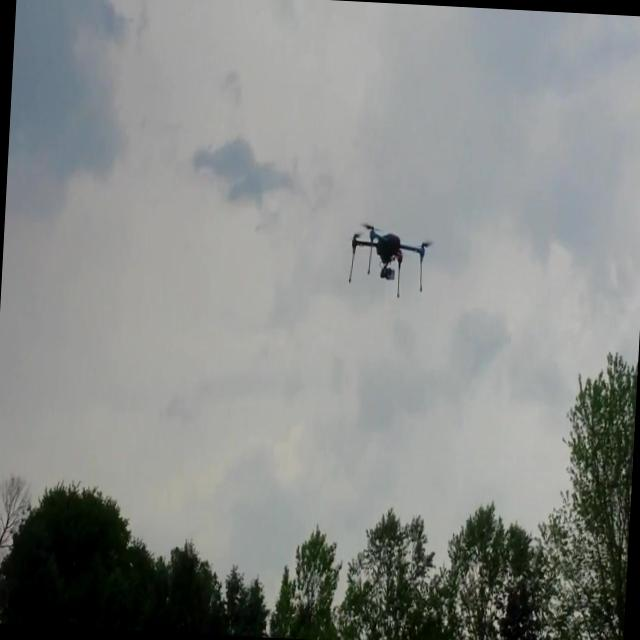drone: (346, 218, 432, 302)
